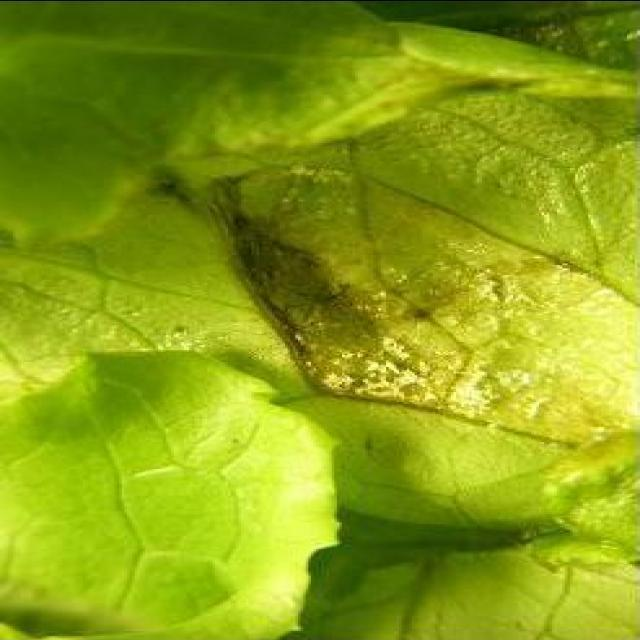Bacterial: (205, 145, 525, 413)
